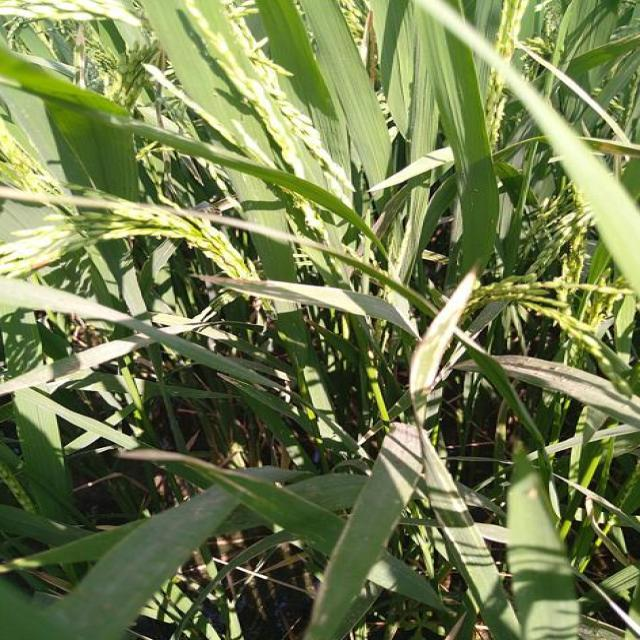Leaf Blight: (113, 448, 239, 490)
Leaf Streak: (186, 276, 411, 331), (372, 183, 411, 239)
